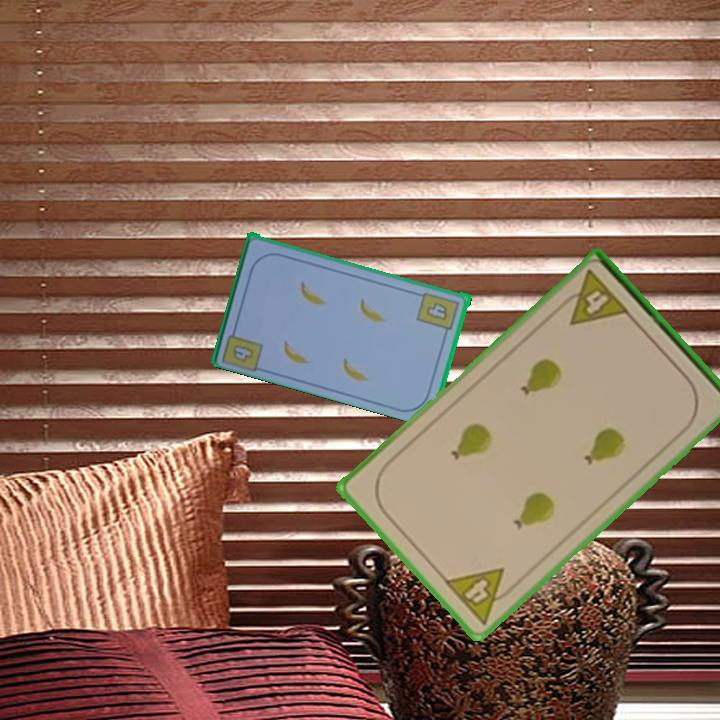4b: (219, 321, 267, 373), (414, 288, 463, 338)
4p: (440, 564, 521, 629), (554, 266, 633, 329)
